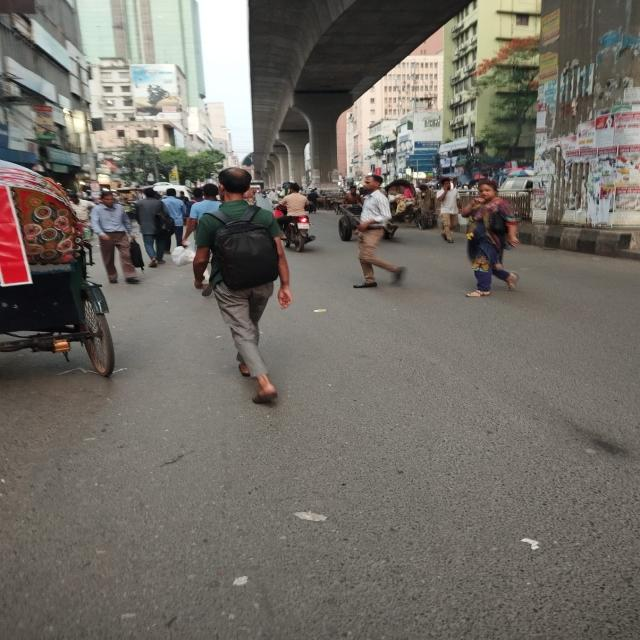person: (193, 168, 292, 404), (461, 179, 519, 298), (353, 175, 404, 288), (90, 193, 140, 284), (134, 188, 170, 268), (185, 184, 220, 248), (162, 187, 187, 251)
